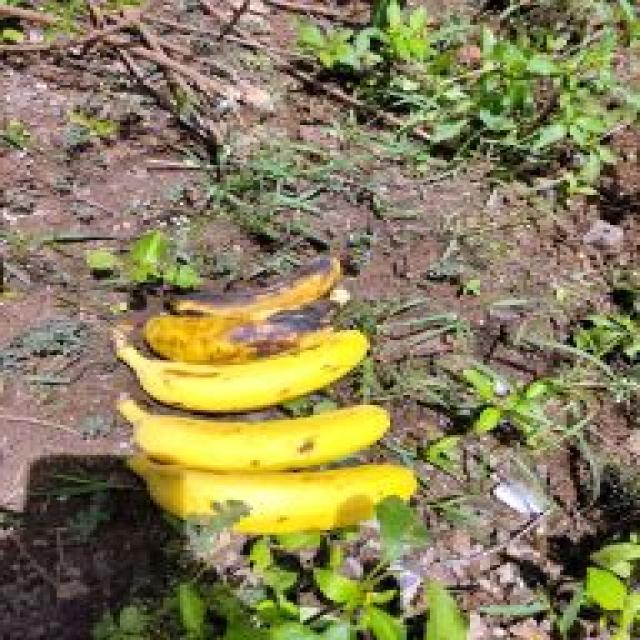Organik: (118, 438, 415, 532), (83, 388, 404, 470), (118, 335, 379, 409), (152, 257, 376, 327), (125, 306, 356, 364)
